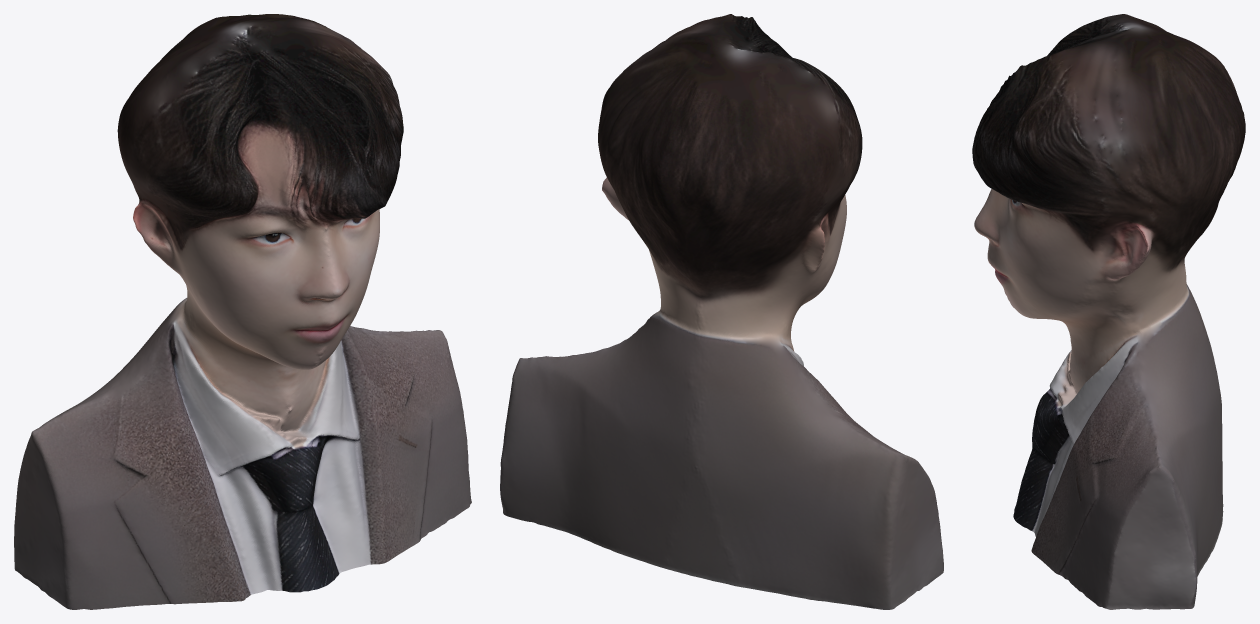
The model's file is profile_3d.glb.
3 views of the same model, side by side, from view 1: azimuth 30°, elevation 25°; view 2: azimuth 150°, elevation 25°; view 3: azimuth 270°, elevation 25° (orthographic). The views are drawn at different scales.
Parts seen in each view (by area): view 1: world; view 2: world; view 3: world.
Boxes of the visible parts, bbox=[...] form: world: bbox=[14, 14, 471, 609]; world: bbox=[500, 14, 943, 609]; world: bbox=[972, 14, 1245, 609].
Size of the model in its own units: 1.11 by 1.34 by 0.6801.
